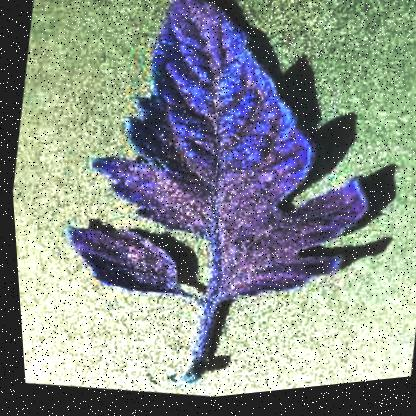Virus: (32, 0, 415, 413)
